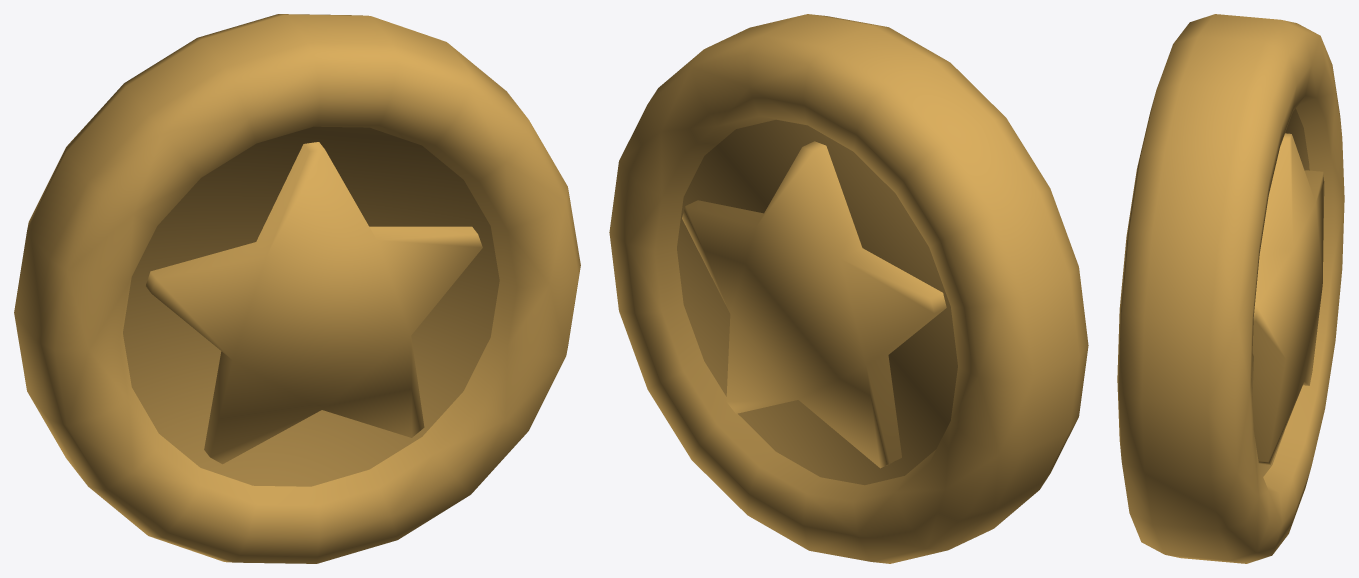
Rendered from coin.glb.
3 views of the same model, side by side, from view 1: azimuth 30°, elevation 25°; view 2: azimuth 150°, elevation 25°; view 3: azimuth 270°, elevation 25° (orthographic). The views are drawn at different scales.
Parts seen in each view (by area): view 1: Coin.003; view 2: Coin.003; view 3: Coin.003.
Part boxes in pixels (box(x1,y1,x2,y2)): Coin.003: box(14, 14, 580, 563); Coin.003: box(609, 14, 1088, 563); Coin.003: box(1117, 14, 1344, 563).
Size of the model in its own units: 1.25 by 1.25 by 0.5167.
